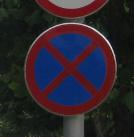No Parking: (25, 24, 117, 115)
